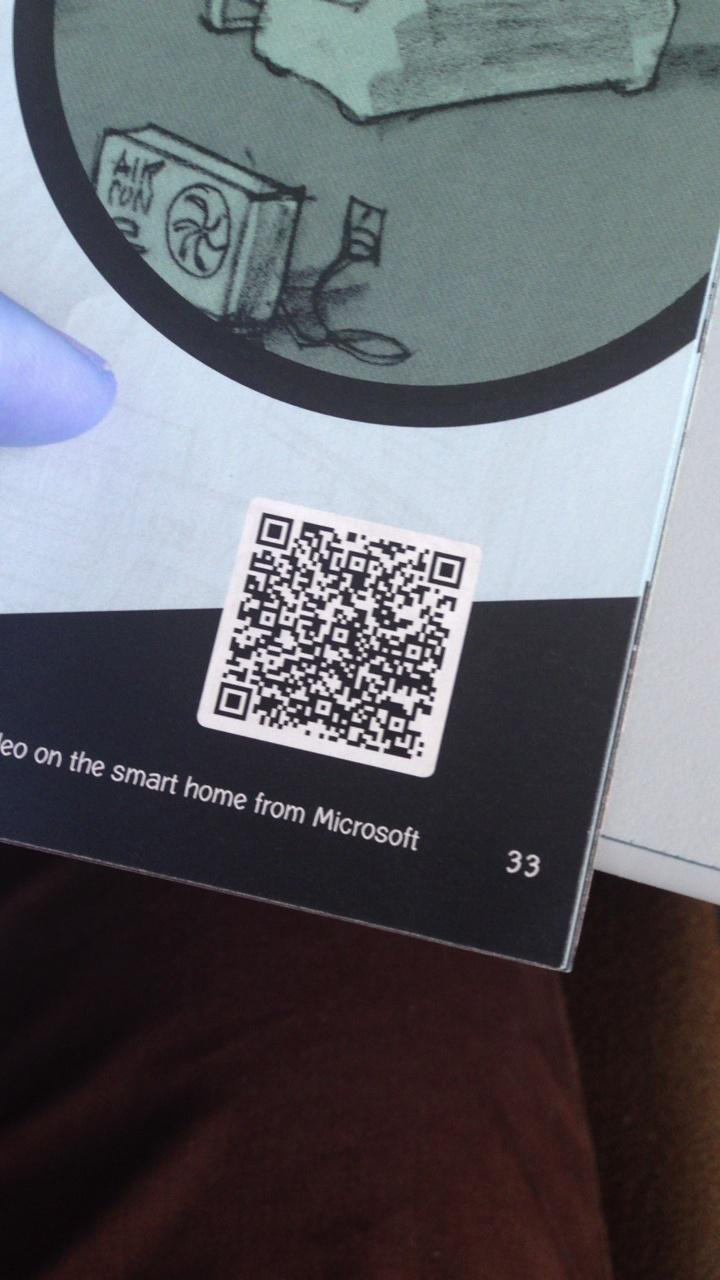Finder pattern: (209, 681, 254, 724), (250, 509, 295, 551), (424, 549, 468, 589)
